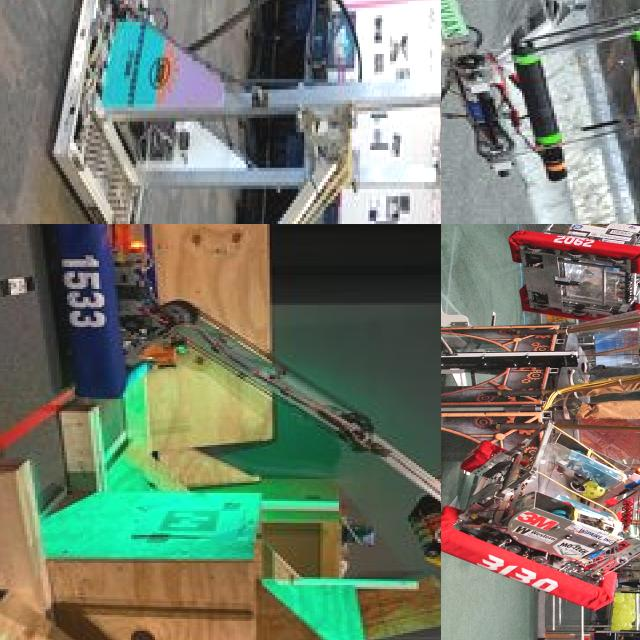FRC-Robots: (47, 224, 441, 615), (41, 0, 441, 224), (441, 0, 640, 224), (441, 423, 640, 621), (494, 224, 640, 322)
